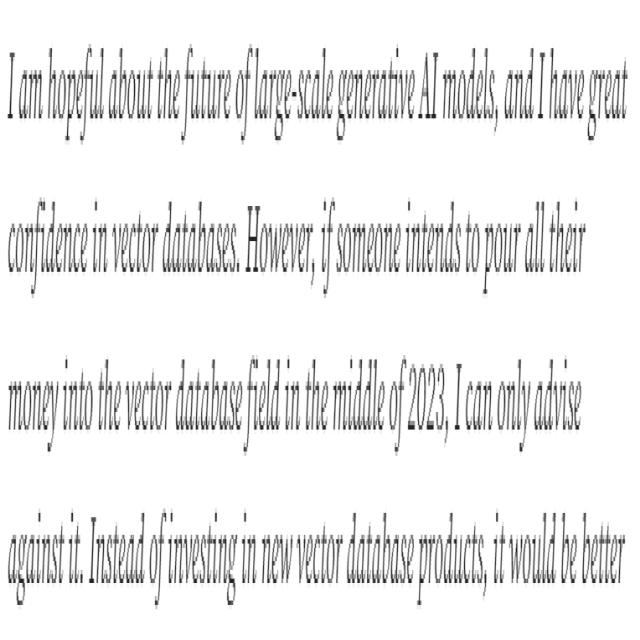word: (335, 36, 418, 152), (7, 205, 90, 313), (162, 199, 243, 307), (246, 187, 320, 301), (46, 34, 107, 164), (254, 48, 335, 140), (344, 501, 416, 604), (167, 514, 240, 613), (8, 491, 68, 609), (418, 512, 489, 609), (403, 187, 463, 295), (443, 43, 503, 149), (174, 366, 243, 454), (87, 507, 146, 609), (332, 341, 386, 449), (6, 356, 62, 460), (183, 38, 233, 154), (112, 197, 161, 315), (530, 351, 587, 450), (336, 202, 406, 281), (108, 36, 155, 147), (124, 359, 175, 455), (243, 346, 282, 467), (493, 351, 535, 459), (547, 35, 587, 146), (588, 48, 631, 149), (408, 355, 451, 454), (581, 506, 626, 599), (509, 520, 557, 606), (546, 195, 588, 293), (484, 204, 522, 312), (295, 515, 344, 595), (156, 29, 181, 157), (60, 351, 94, 445), (503, 46, 536, 142), (95, 349, 124, 452), (464, 368, 498, 453), (302, 351, 331, 450), (18, 34, 43, 147), (282, 346, 305, 464), (524, 202, 550, 304), (261, 522, 296, 597), (386, 351, 409, 460), (67, 489, 88, 599), (419, 41, 441, 142), (91, 189, 111, 300), (148, 507, 168, 618), (235, 36, 252, 166), (320, 185, 337, 310), (239, 503, 259, 606), (490, 501, 507, 616), (560, 505, 579, 606), (464, 200, 483, 284), (3, 42, 17, 149), (537, 38, 548, 147), (454, 349, 465, 445)
